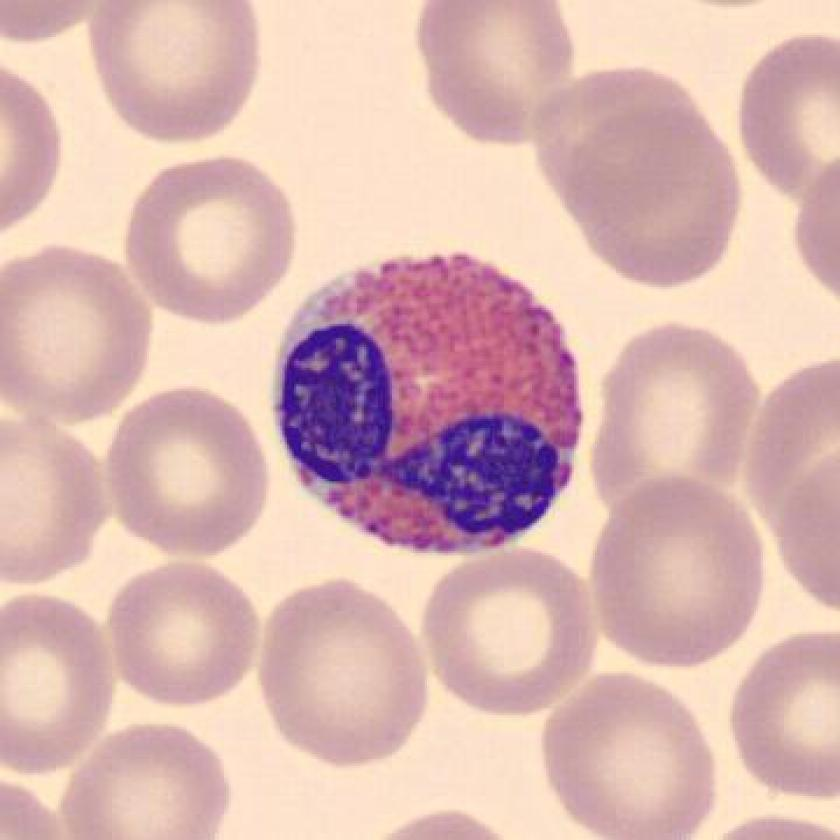eosinophil: (265, 233, 598, 566)
